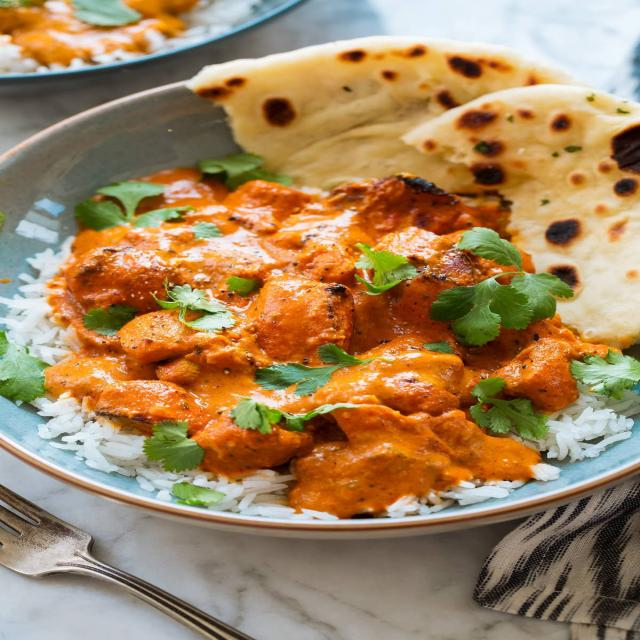Butter Chicken: (60, 189, 586, 514)
